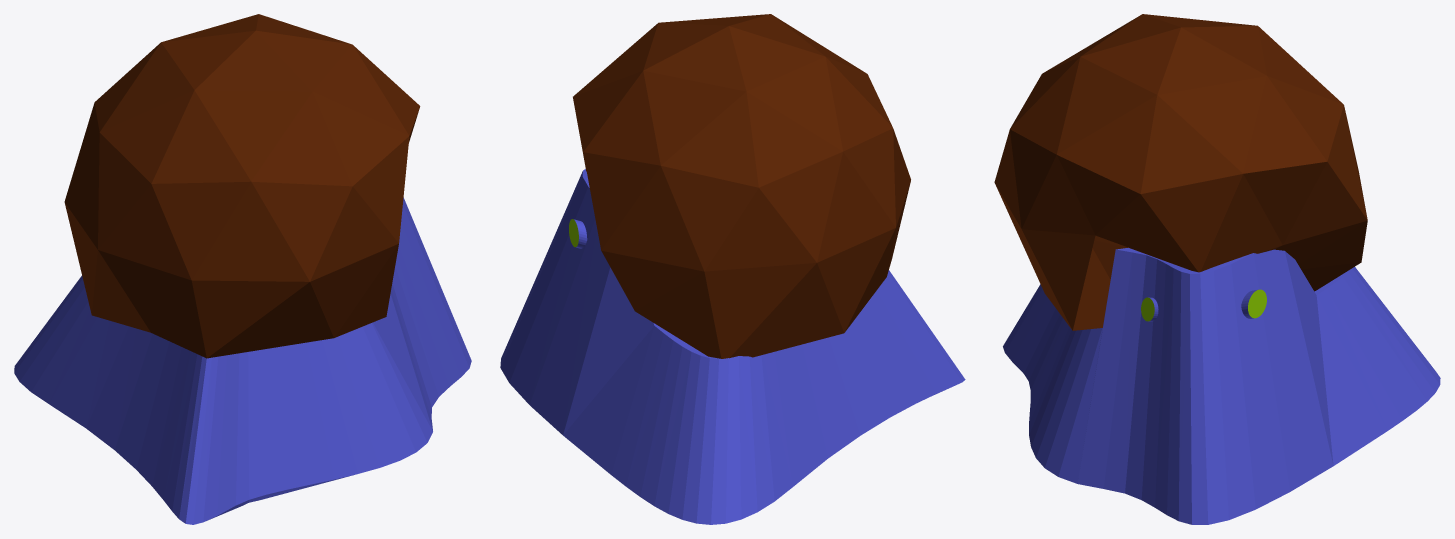
Rendered from rockSlug.dae.
3 views of the same model, side by side, from view 1: azimuth 30°, elevation 25°; view 2: azimuth 150°, elevation 25°; view 3: azimuth 270°, elevation 25° (orthographic). The views are drawn at different scales.
Parts seen in each view (by area): view 1: Icosphere; view 2: Icosphere; view 3: Icosphere.
Part boxes in pixels (x1=…): Icosphere: x1=14, y1=14, x2=471, y2=524; Icosphere: x1=500, y1=14, x2=965, y2=524; Icosphere: x1=994, y1=14, x2=1440, y2=524.
Bounding box in the file's own units: 2.34 × 2.32 × 2.67.
